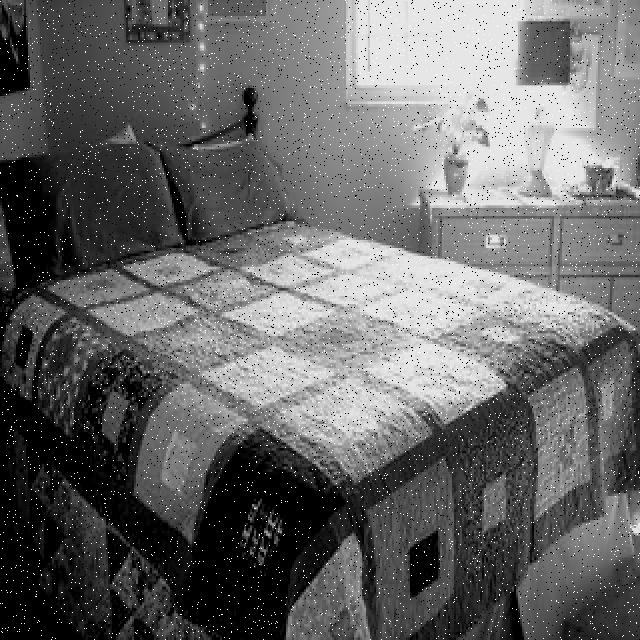bed: (4, 125, 620, 640)
